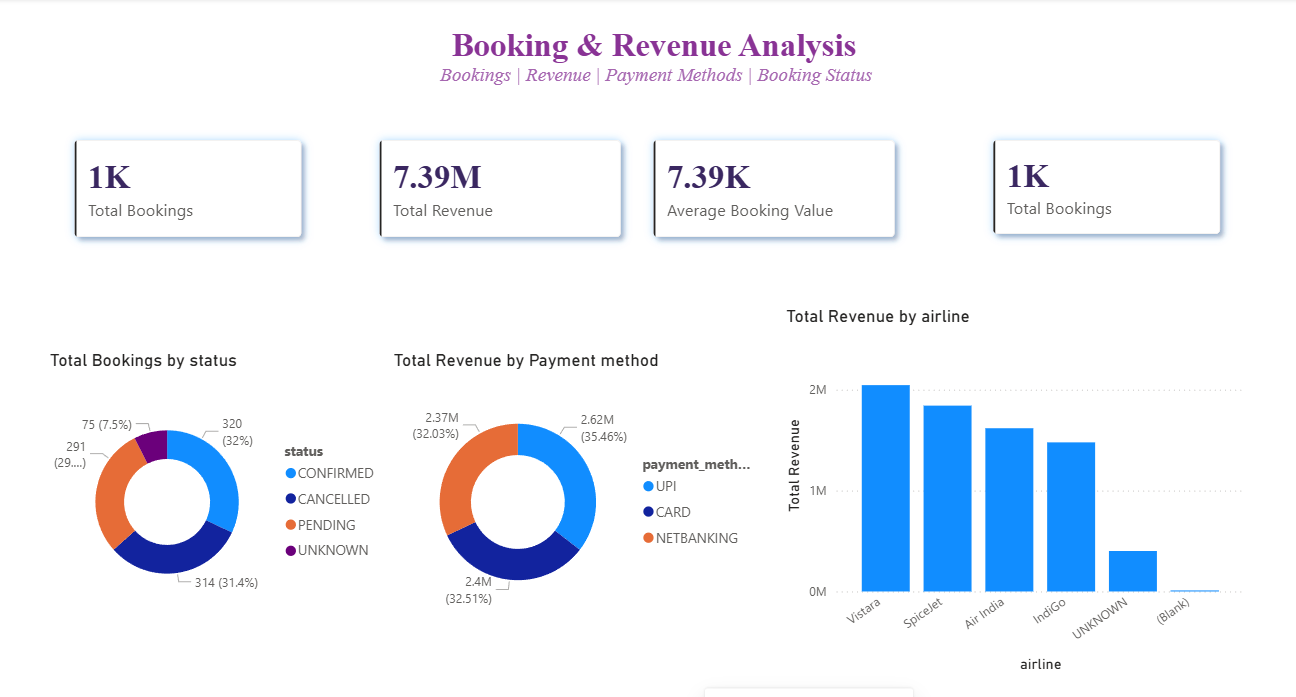

This screenshot's page, from the dashboard's own definition file:
{"tool":"powerbi","page":{"name":"Booking & Revenue Analysis","canvas":[1280,720],"ordinal":3},"visuals":[{"type":"cardVisual","fields":{"Data":["dim_bookings.Total Bookings"]},"box":[43.8,110,280,153.8],"z":0},{"type":"cardVisual","fields":{"Data":["dim_bookings.Total Revenue","dim_bookings.Average Booking Value"]},"box":[342.5,110,562.5,153.8],"z":1000},{"type":"cardVisual","fields":{"Data":["dim_bookings.Total Bookings"]},"box":[942.5,110,280,150],"z":2000},{"type":"donutChart","title":"Total Revenue by Payment method","fields":{"Category":["fact_payments.payment_method"],"Y":["dim_bookings.Total Revenue"]},"box":[380,343.8,365,280],"z":3000},{"type":"donutChart","fields":{"Category":["dim_bookings.status"],"Y":["dim_bookings.Total Bookings"]},"box":[43.8,343.8,336.2,280],"z":4000},{"type":"clusteredColumnChart","fields":{"Category":["fact_flights.airline"],"Y":["dim_bookings.Total Revenue"]},"box":[763.8,301.2,458.8,363.8],"z":5000},{"type":"textbox","box":[237.5,22.5,805,87.5],"z":5001}]}

Visuals, with their boxes on the page's 1280x720 design canvas (x1, y1, x2, y2). These are canvas units, not pixel positions in the 1296x697 screenshot, which may show the page scaled, cropped or inside an application window:
cardVisual - dim_bookings.Total Bookings: {"x1": 44, "y1": 110, "x2": 324, "y2": 264}
cardVisual - dim_bookings.Total Revenue x dim_bookings.Average Booking Value: {"x1": 342, "y1": 110, "x2": 905, "y2": 264}
cardVisual - dim_bookings.Total Bookings: {"x1": 942, "y1": 110, "x2": 1222, "y2": 260}
"Total Revenue by Payment method" donutChart: {"x1": 380, "y1": 344, "x2": 745, "y2": 624}
donutChart - dim_bookings.status x dim_bookings.Total Bookings: {"x1": 44, "y1": 344, "x2": 380, "y2": 624}
clusteredColumnChart - fact_flights.airline x dim_bookings.Total Revenue: {"x1": 764, "y1": 301, "x2": 1223, "y2": 665}
textbox: {"x1": 238, "y1": 22, "x2": 1042, "y2": 110}
